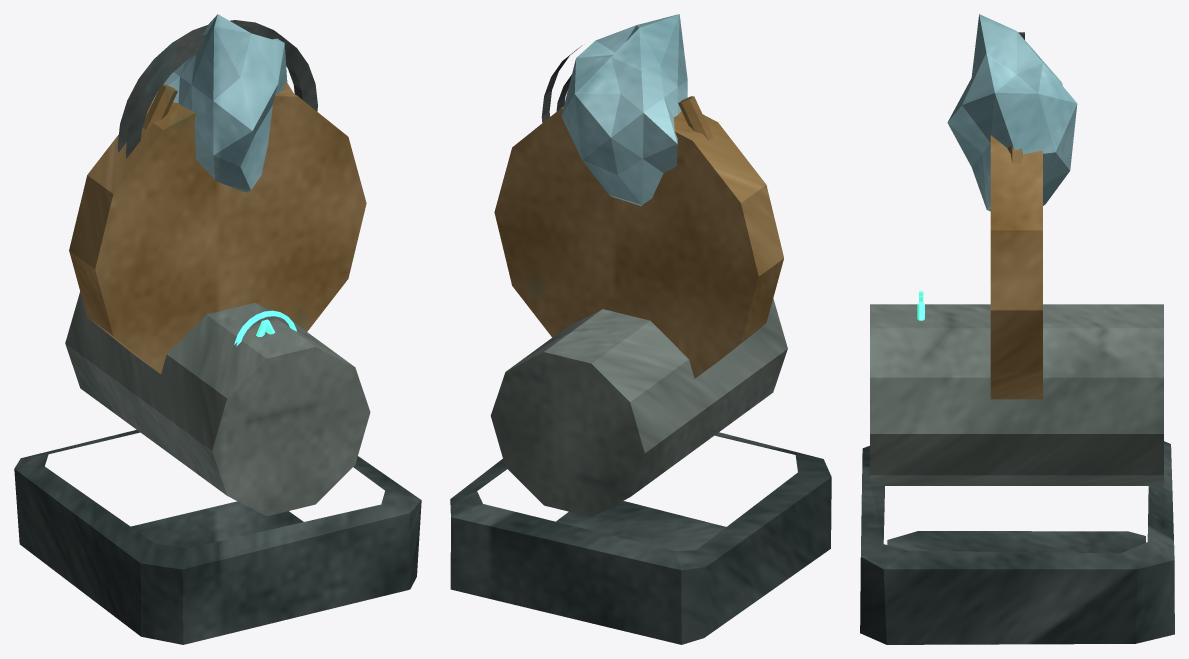
File: 0576_relic_pedestal_01.glb
3 views of the same model, side by side, from view 1: azimuth 30°, elevation 25°; view 2: azimuth 150°, elevation 25°; view 3: azimuth 270°, elevation 25° (orthographic). The views are drawn at different scales.
Visible parts, largest first — view 1: brass, stone_dark, stone, ice, iron, glow; view 2: brass, stone_dark, stone, ice, iron; view 3: stone, stone_dark, ice, brass.
Part boxes in pixels (x1,y1,x2,y2): brass: (69,82,366,373); stone_dark: (14,430,421,644); stone: (65,291,370,516); ice: (152,14,287,192); iron: (117,20,317,158); glow: (234,310,296,346); brass: (494,96,783,378); stone_dark: (450,432,831,644); stone: (490,298,787,516); ice: (561,14,687,205); iron: (541,45,582,122); stone: (870,304,1163,485); stone_dark: (860,441,1174,644); ice: (947,14,1077,211); brass: (990,135,1042,399).
Size of the model in its own units: 0.9711 by 1.9 by 0.9634.
6 materials, 6 textured.
